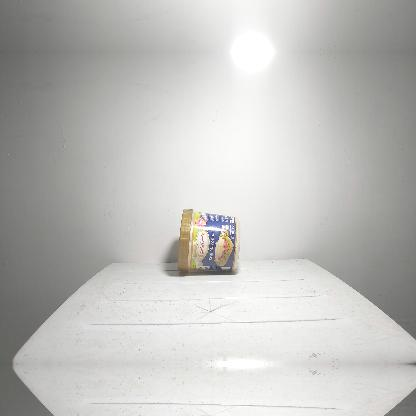Lady-s-Choice: (176, 207, 242, 275)
